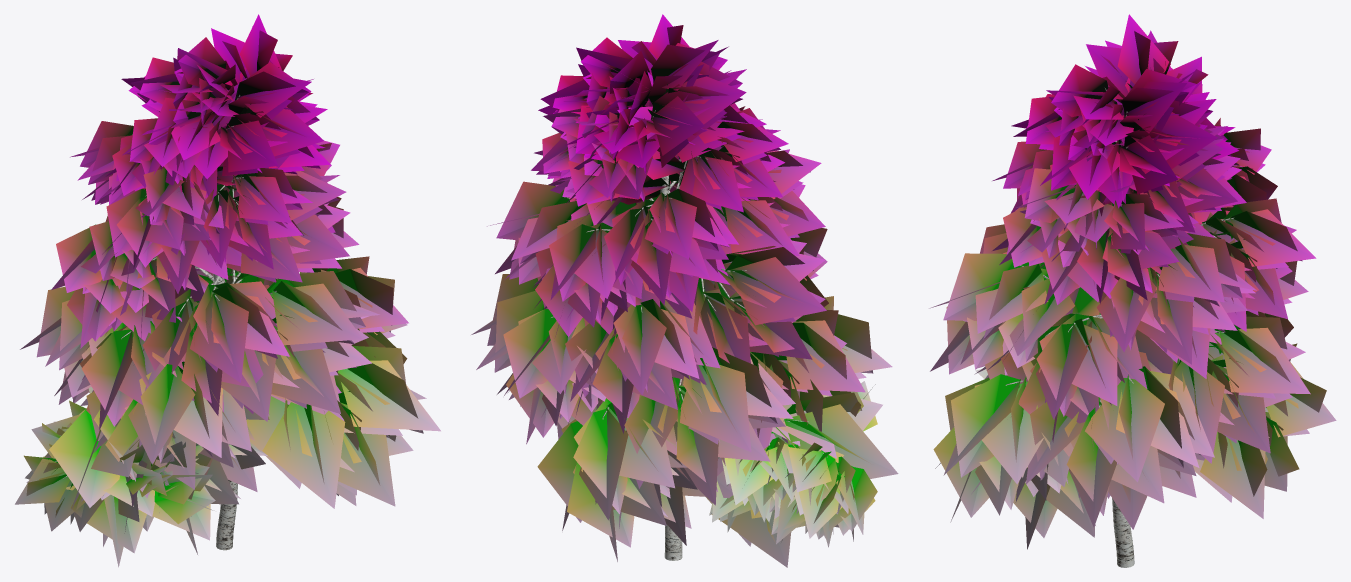
Rendered from Береза.fbx.
3 renders of one model, left to right at view 1: azimuth 30°, elevation 25°; view 2: azimuth 150°, elevation 25°; view 3: azimuth 270°, elevation 25°, orthographic. The views are drawn at different scales.
Parts seen in each view (by area): view 1: birch_leaves_lod_0, birch_trunk_lod_0; view 2: birch_leaves_lod_0, birch_trunk_lod_0; view 3: birch_leaves_lod_0, birch_trunk_lod_0.
Boxes of the visible parts, <box> form: birch_leaves_lod_0: <box>15,14,440,567</box>; birch_trunk_lod_0: <box>213,273,237,550</box>; birch_leaves_lod_0: <box>471,14,898,567</box>; birch_trunk_lod_0: <box>660,175,682,560</box>; birch_leaves_lod_0: <box>929,14,1336,549</box>; birch_trunk_lod_0: <box>1112,498,1134,567</box>.
Size of the model in its own units: 797 by 1006 by 707.
